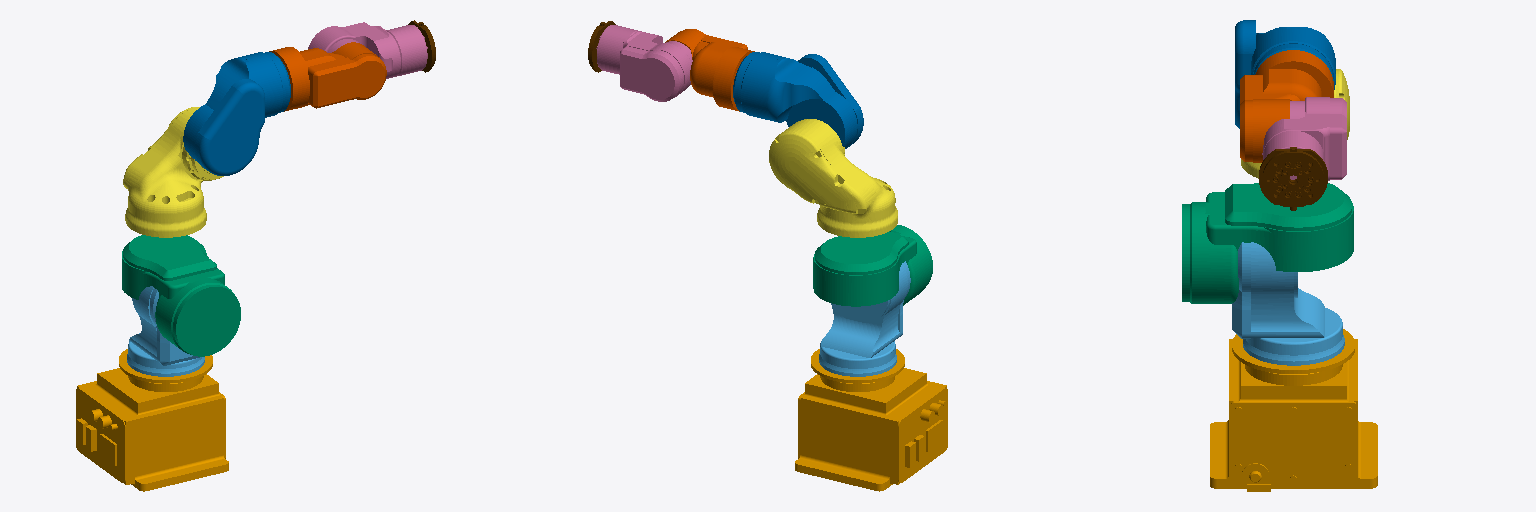
robot.urdf — sia5:
<?xml version="1.0" ?>
<!-- =================================================================================== -->
<!-- |    This document was autogenerated by xacro from sia5.urdf.xacro                | -->
<!-- |    EDITING THIS FILE BY HAND IS NOT RECOMMENDED                                 | -->
<!-- =================================================================================== -->
<robot name="sia5" xmlns:xacro="http://ros.org/wiki/xacro">
  <!-- File Include -->
  <!-- File Include -->
  <material name="black">
    <color rgba="0.0 0.0 0.0 1.0"/>
  </material>
  <material name="blue">
    <color rgba="0.0 0.0 0.8 1.0"/>
  </material>
  <material name="green">
    <color rgba="0.0 0.8 0.0 1.0"/>
  </material>
  <material name="grey">
    <color rgba="0.2 0.2 0.2 1.0"/>
  </material>
  <material name="orange">
    <color rgba="1.0 0.423529411765 0.0392156862745 1.0"/>
  </material>
  <material name="brown">
    <color rgba="0.870588235294 0.811764705882 0.764705882353 1.0"/>
  </material>
  <material name="red">
    <color rgba="0.8 0.0 0.0 1.0"/>
  </material>
  <material name="white">
    <color rgba="1.0 1.0 1.0 1.0"/>
  </material>
  <!-- Mass -->
  <!-- about mass rate -->
  <!-- Hard ware limits -->
  <!-- Range limits -->
  <!-- Velocity limits -->
  <!-- Add macro -->
  <!-- link -->
  <link name="base_link">
    <visual>
      <geometry>
        <mesh filename="package://motoman_description/meshes/sia5/visual/COLLADA/base_link.dae"/>
      </geometry>
    </visual>
    <collision>
      <geometry>
        <mesh filename="package://motoman_description/meshes/sia5/collision/STL/base_link.stl"/>
      </geometry>
    </collision>
    <inertial>
      <origin rpy="0 0 0" xyz="-0.025918 -0.000376 0.076105"/>
      <mass value="9.23913043478"/>
      <inertia ixx="0.0378685009058" ixy="0" ixz="0" iyy="0.0465867830616" iyz="0" izz="0.0514065294384"/>
    </inertial>
  </link>
  <link name="link_s">
    <visual>
      <geometry>
        <mesh filename="package://motoman_description/meshes/sia5/visual/COLLADA/link_s.dae"/>
      </geometry>
    </visual>
    <collision>
      <geometry>
        <mesh filename="package://motoman_description/meshes/sia5/collision/STL/link_s.stl"/>
      </geometry>
    </collision>
    <inertial>
      <origin rpy="0 0 0" xyz="0 0 0"/>
      <mass value="8.36956521739"/>
      <inertia ixx="0.1285284" ixy="0" ixz="0" iyy="0.127697251956" iyz="0" izz="0.0186623672464"/>
    </inertial>
  </link>
  <link name="link_l">
    <visual>
      <geometry>
        <mesh filename="package://motoman_description/meshes/sia5/visual/COLLADA/link_l.dae"/>
      </geometry>
    </visual>
    <collision>
      <geometry>
        <mesh filename="package://motoman_description/meshes/sia5/collision/STL/link_l.stl"/>
      </geometry>
    </collision>
    <inertial>
      <origin rpy="3.14159274 0 0" xyz="0 -0.006 0.15"/>
      <mass value="7.60869565217"/>
      <inertia ixx="0.12248884058" ixy="0" ixz="0" iyy="0.117554616667" iyz="0" izz="0.0177495804348"/>
    </inertial>
  </link>
  <link name="link_e">
    <visual>
      <geometry>
        <mesh filename="package://motoman_description/meshes/sia5/visual/COLLADA/link_e.dae"/>
      </geometry>
    </visual>
    <collision>
      <geometry>
        <mesh filename="package://motoman_description/meshes/sia5/collision/STL/link_e.stl"/>
      </geometry>
    </collision>
    <inertial>
      <origin rpy="0 0 -1.57079637" xyz="0 0 0"/>
      <mass value="1.30434782609"/>
      <inertia ixx="0.0122899381739" ixy="0" ixz="0" iyy="0.0117127787826" iyz="0" izz="0.00344401234783"/>
    </inertial>
  </link>
  <link name="link_u">
    <visual>
      <geometry>
        <mesh filename="package://motoman_description/meshes/sia5/visual/COLLADA/link_u.dae"/>
      </geometry>
    </visual>
    <collision>
      <geometry>
        <mesh filename="package://motoman_description/meshes/sia5/collision/STL/link_u.stl"/>
      </geometry>
    </collision>
    <inertial>
      <origin rpy="-3.14159274 1.57079637 0" xyz="0.008 -0.06 -0.131"/>
      <mass value="1.08695652174"/>
      <inertia ixx="0.0110207115768" ixy="0" ixz="0" iyy="0.00996803594202" iyz="0" izz="0.00214043853333"/>
    </inertial>
  </link>
  <link name="link_r">
    <visual>
      <geometry>
        <mesh filename="package://motoman_description/meshes/sia5/visual/COLLADA/link_r.dae"/>
      </geometry>
    </visual>
    <collision>
      <geometry>
        <mesh filename="package://motoman_description/meshes/sia5/collision/STL/link_r.stl"/>
      </geometry>
    </collision>
    <inertial>
      <origin rpy="0 0 -1.57079637" xyz="0 0 0"/>
      <mass value="0.978260869565"/>
      <inertia ixx="0.0108400832201" ixy="0" ixz="0" iyy="0.010708873981" iyz="0" izz="0.00140456861413"/>
    </inertial>
  </link>
  <link name="link_b">
    <visual>
      <geometry>
        <mesh filename="package://motoman_description/meshes/sia5/visual/COLLADA/link_b.dae"/>
      </geometry>
    </visual>
    <collision>
      <geometry>
        <mesh filename="package://motoman_description/meshes/sia5/collision/STL/link_b.stl"/>
      </geometry>
    </collision>
    <inertial>
      <origin rpy="1.57079637 -1.57079637 0" xyz="0 0.0045 0.1365"/>
      <mass value="0.869565217391"/>
      <inertia ixx="0.00814341869565" ixy="0" ixz="0" iyy="0.00709473869565" iyz="0" izz="0.000736577391304"/>
    </inertial>
  </link>
  <link name="link_t">
    <visual>
      <geometry>
        <mesh filename="package://motoman_description/meshes/sia5/visual/COLLADA/link_t.dae"/>
      </geometry>
    </visual>
    <collision>
      <geometry>
        <mesh filename="package://motoman_description/meshes/sia5/collision/STL/link_t.stl"/>
      </geometry>
    </collision>
    <inertial>
      <mass value="0.54347826087"/>
      <inertia ixx="0.003" ixy="0" ixz="0" iyy="0.003" iyz="0" izz="0.001"/>
    </inertial>
  </link>
  <link name="tool0"/>
  <!-- joint -->
  <joint name="joint_s" type="revolute">
    <origin rpy="0 0 0" xyz="0 0 0.1765"/>
    <parent link="base_link"/>
    <child link="link_s"/>
    <axis xyz="0 0 1"/>
    <dynamics damping="0.7" friction="0.7"/>
    <limit effort="30.0" lower="-2.98451293719" upper="2.98451293719" velocity="3.31612567"/>
  </joint>
  <joint name="joint_l" type="revolute">
    <origin rpy="0 0 0" xyz="0 0.006 0.136"/>
    <parent link="link_s"/>
    <child link="link_l"/>
    <axis xyz="0 1 0"/>
    <dynamics damping="0.7" friction="0.7"/>
    <limit effort="30.0" lower="-1.8238691185" upper="1.8238691185" velocity="3.31612567"/>
  </joint>
  <joint name="joint_e" type="revolute">
    <origin rpy="0 0 0" xyz="0 -0.006 0.15"/>
    <parent link="link_l"/>
    <child link="link_e"/>
    <axis xyz="0 0 1"/>
    <dynamics damping="0.7" friction="0.7"/>
    <limit effort="30.0" lower="-2.8187068195" upper="2.8187068195" velocity="3.31612567"/>
  </joint>
  <joint name="joint_u" type="revolute">
    <origin rpy="1.57079637 0 0" xyz="0.085 -0.00826931 0.12275299"/>
    <parent link="link_e"/>
    <child link="link_u"/>
    <axis xyz="0 0 1"/>
    <dynamics damping="0.7" friction="0.7"/>
    <limit effort="30.0" lower="-1.4922565515" upper="1.90677226025" velocity="3.31612567"/>
  </joint>
  <joint name="joint_r" type="revolute">
    <origin rpy="0 1.57079637 0" xyz="0.131 0.06 -0.008"/>
    <parent link="link_u"/>
    <child link="link_r"/>
    <axis xyz="0 0 -1"/>
    <dynamics damping="0.7" friction="0.7"/>
    <limit effort="14.7" lower="-2.98451293719" upper="2.98451293719" velocity="3.31612567"/>
  </joint>
  <joint name="joint_b" type="revolute">
    <origin rpy="0 -1.57079637 0" xyz="-0.0045 0 0.139"/>
    <parent link="link_r"/>
    <child link="link_b"/>
    <axis xyz="0 0 1"/>
    <dynamics damping="0.7" friction="0.7"/>
    <limit effort="14.7" lower="-1.8238691185" upper="1.8238691185" velocity="3.8135445205"/>
  </joint>
  <joint name="joint_t" type="revolute">
    <origin rpy="-1.57079637 0 0" xyz="0.1365 0 -0.0045"/>
    <parent link="link_b"/>
    <child link="link_t"/>
    <axis xyz="-1 0 0"/>
    <dynamics damping="0.7" friction="0.7"/>
    <limit effort="7.35" lower="-2.98451293719" upper="2.98451293719" velocity="5.8032199225"/>
  </joint>
  <joint name="joint_tool0" type="fixed">
    <origin rpy="0 0 0" xyz="0.0115 0 0"/>
    <parent link="link_t"/>
    <child link="tool0"/>
  </joint>
  <!-- transmission -->
  <transmission name="transmission_s">
    <type>transmission_interface/SimpleTransmission</type>
    <joint name="joint_s">
      <hardwareInterface>PositionJointInterface</hardwareInterface>
    </joint>
    <actuator name="motor_s">
      <hardwareInterface>PositionJointInterface</hardwareInterface>
      <mechanicalReduction>300</mechanicalReduction>
    </actuator>
  </transmission>
  <transmission name="transmission_l">
    <type>transmission_interface/SimpleTransmission</type>
    <joint name="joint_l">
      <hardwareInterface>PositionJointInterface</hardwareInterface>
    </joint>
    <actuator name="motor_l">
      <hardwareInterface>PositionJointInterface</hardwareInterface>
      <mechanicalReduction>300</mechanicalReduction>
    </actuator>
  </transmission>
  <transmission name="transmission_e">
    <type>transmission_interface/SimpleTransmission</type>
    <joint name="joint_e">
      <hardwareInterface>PositionJointInterface</hardwareInterface>
    </joint>
    <actuator name="motor_e">
      <hardwareInterface>PositionJointInterface</hardwareInterface>
      <mechanicalReduction>100</mechanicalReduction>
    </actuator>
  </transmission>
  <transmission name="transmission_u">
    <type>transmission_interface/SimpleTransmission</type>
    <joint name="joint_u">
      <hardwareInterface>PositionJointInterface</hardwareInterface>
    </joint>
    <actuator name="motor_u">
      <hardwareInterface>PositionJointInterface</hardwareInterface>
      <mechanicalReduction>50</mechanicalReduction>
    </actuator>
  </transmission>
  <transmission name="transmission_r">
    <type>transmission_interface/SimpleTransmission</type>
    <joint name="joint_r">
      <hardwareInterface>PositionJointInterface</hardwareInterface>
    </joint>
    <actuator name="motor_r">
      <hardwareInterface>PositionJointInterface</hardwareInterface>
      <mechanicalReduction>30</mechanicalReduction>
    </actuator>
  </transmission>
  <transmission name="transmission_b">
    <type>transmission_interface/SimpleTransmission</type>
    <joint name="joint_b">
      <hardwareInterface>PositionJointInterface</hardwareInterface>
    </joint>
    <actuator name="motor_b">
      <hardwareInterface>PositionJointInterface</hardwareInterface>
      <mechanicalReduction>30</mechanicalReduction>
    </actuator>
  </transmission>
  <transmission name="transmission_t">
    <type>transmission_interface/SimpleTransmission</type>
    <joint name="joint_t">
      <hardwareInterface>PositionJointInterface</hardwareInterface>
    </joint>
    <actuator name="motor_t">
      <hardwareInterface>PositionJointInterface</hardwareInterface>
      <mechanicalReduction>10</mechanicalReduction>
    </actuator>
  </transmission>
  <!-- gazebo -->
  <gazebo>
    <plugin filename="libgazebo_ros_control.so" name="gazebo_ros_control">
      <robotSimType>gazebo_ros_control/DefaultRobotHWSim</robotSimType>
    </plugin>
  </gazebo>
  <gazebo reference="base_link">
    <mu1>0.2</mu1>
    <mu2>0.2</mu2>
    <selfCollide>true</selfCollide>
  </gazebo>
  <gazebo reference="link_s">
    <mu1>0.2</mu1>
    <mu2>0.2</mu2>
    <selfCollide>true</selfCollide>
  </gazebo>
  <gazebo reference="link_l">
    <mu1>0.2</mu1>
    <mu2>0.2</mu2>
    <selfCollide>true</selfCollide>
  </gazebo>
  <gazebo reference="link_e">
    <mu1>0.2</mu1>
    <mu2>0.2</mu2>
    <selfCollide>true</selfCollide>
  </gazebo>
  <gazebo reference="link_u">
    <mu1>0.2</mu1>
    <mu2>0.2</mu2>
    <selfCollide>true</selfCollide>
  </gazebo>
  <gazebo reference="link_r">
    <mu1>0.2</mu1>
    <mu2>0.2</mu2>
    <selfCollide>true</selfCollide>
  </gazebo>
  <gazebo reference="link_b">
    <mu1>0.2</mu1>
    <mu2>0.2</mu2>
    <selfCollide>true</selfCollide>
  </gazebo>
  <gazebo reference="link_t">
    <mu1>0.2</mu1>
    <mu2>0.2</mu2>
    <selfCollide>true</selfCollide>
  </gazebo>
  <link name="world"/>
  <joint name="world" type="fixed">
    <origin rpy="0 0 0" xyz="0 0 0"/>
    <parent link="world"/>
    <child link="base_link"/>
  </joint>
</robot>

--- Facts derived from the render (not from the file) ---
Views: 3 orthographic renders of the robot side by side, from view 1: azimuth 30°, elevation 25°; view 2: azimuth 150°, elevation 25°; view 3: azimuth 270°, elevation 25°.
Model sia5 with 10 links and 9 joints (7 revolute, 2 fixed), rooted at world, posed all joints at 0.
Links seen in each view (by area): view 1: base_link, link_l, link_u, link_e, link_r, link_b, link_s; view 2: base_link, link_e, link_u, link_l, link_s, link_b, link_r; view 3: base_link, link_l, link_s, link_r, link_b, link_u, link_t, link_e.
Link boxes in pixels (<box>): base_link: <box>76,349,228,491</box>; link_l: <box>122,235,240,356</box>; link_u: <box>183,52,290,175</box>; link_e: <box>123,107,223,237</box>; link_r: <box>269,42,386,111</box>; link_b: <box>308,22,427,78</box>; link_s: <box>127,286,204,376</box>; base_link: <box>795,349,947,491</box>; link_e: <box>769,119,897,237</box>; link_u: <box>733,52,863,148</box>; link_l: <box>813,225,932,306</box>; link_s: <box>819,261,910,376</box>; link_b: <box>596,25,692,101</box>; link_r: <box>665,29,754,111</box>; base_link: <box>1210,329,1377,491</box>; link_l: <box>1182,183,1353,303</box>; link_s: <box>1232,242,1344,365</box>; link_r: <box>1240,50,1333,162</box>; link_b: <box>1262,97,1346,180</box>; link_u: <box>1235,20,1335,128</box>; link_t: <box>1259,147,1327,210</box>; link_e: <box>1241,69,1349,178</box>.
Size in the robot's own frame: 0.6479 by 0.2528 by 0.7003 metres.
8 mesh visuals loaded from 8 distinct referenced files (8 Collada DAE).